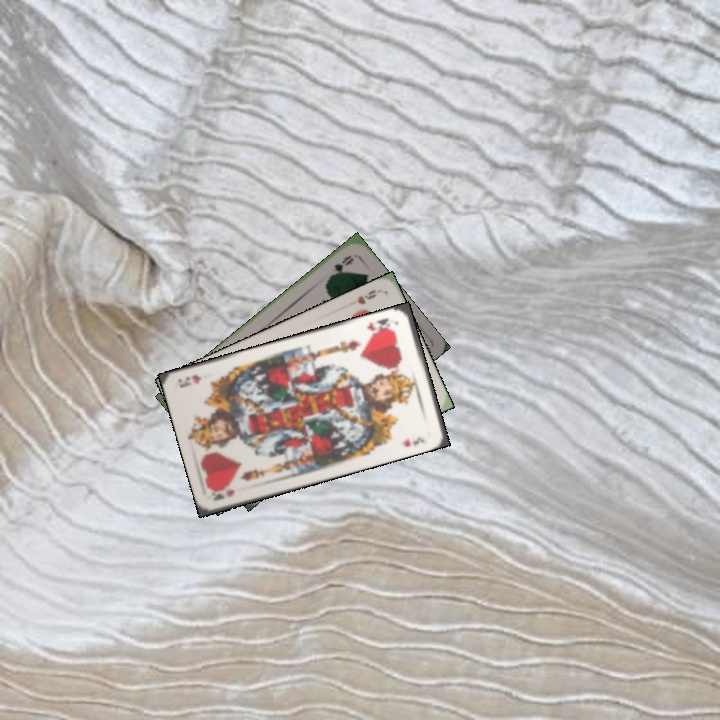GO: (324, 251, 356, 283)
H9: (353, 285, 379, 307)
HK: (363, 314, 393, 336), (210, 483, 237, 503)
